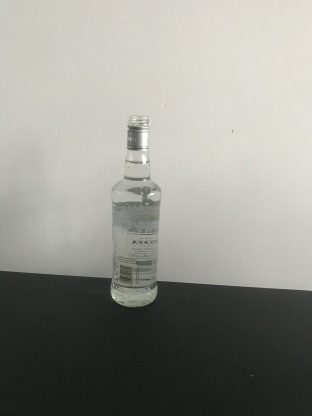nakretka: (125, 112, 151, 152)
